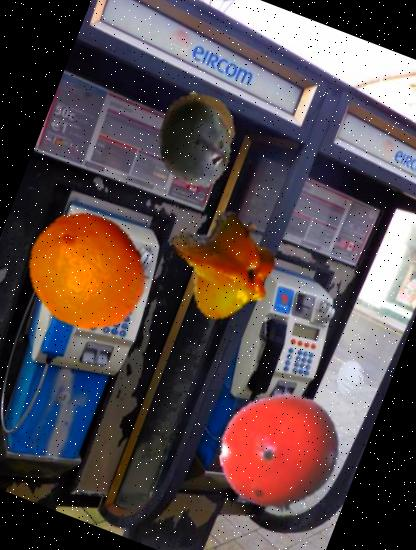Carambula: (155, 194, 295, 334)
Kaki: (201, 374, 359, 532)
Kiwi: (152, 82, 246, 176)
Lemon: (8, 192, 166, 350)
Plum: (134, 83, 256, 204)
